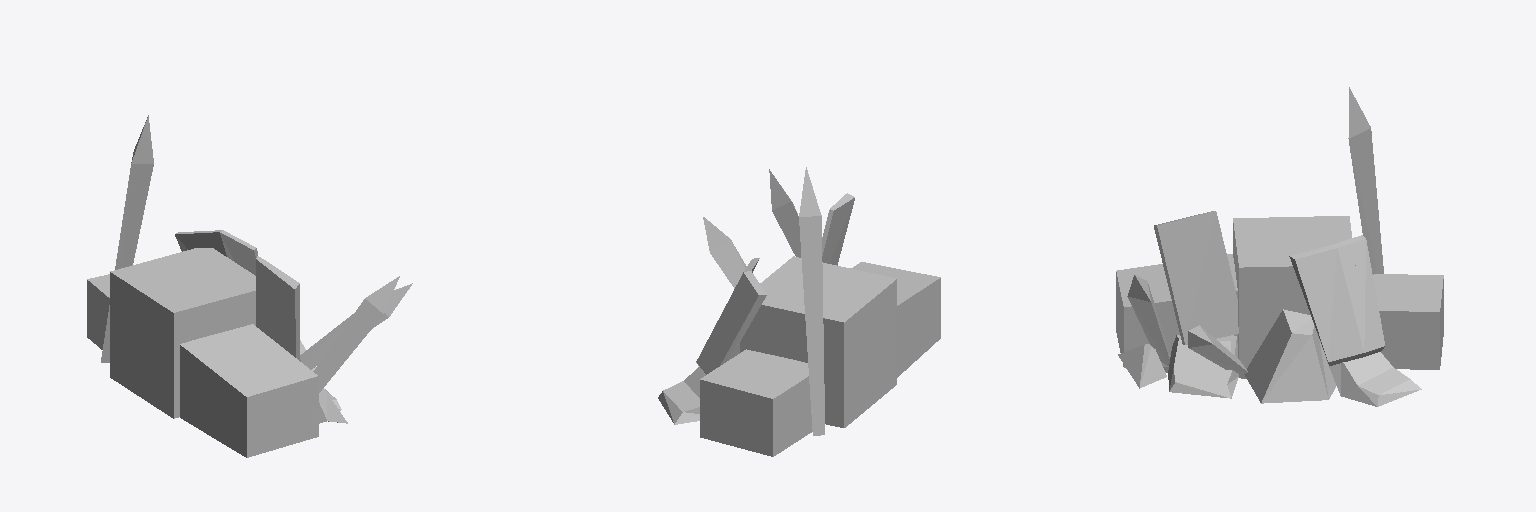
Rendered from barricade1.obj.
The picture shows the model from 3 angles: view 1: azimuth 30°, elevation 25°; view 2: azimuth 150°, elevation 25°; view 3: azimuth 270°, elevation 25°; orthographic projection.
Visible parts, largest first — view 1: Barricade1(m0); view 2: Barricade1(m0); view 3: Barricade1(m0).
Part boxes in pixels (left/top/right/bottom): Barricade1(m0): left=87, top=115, right=412, bottom=457; Barricade1(m0): left=658, top=167, right=940, bottom=456; Barricade1(m0): left=1116, top=87, right=1443, bottom=406.
Bounding box in the file's own units: 4.19 × 4.8 × 5.34.